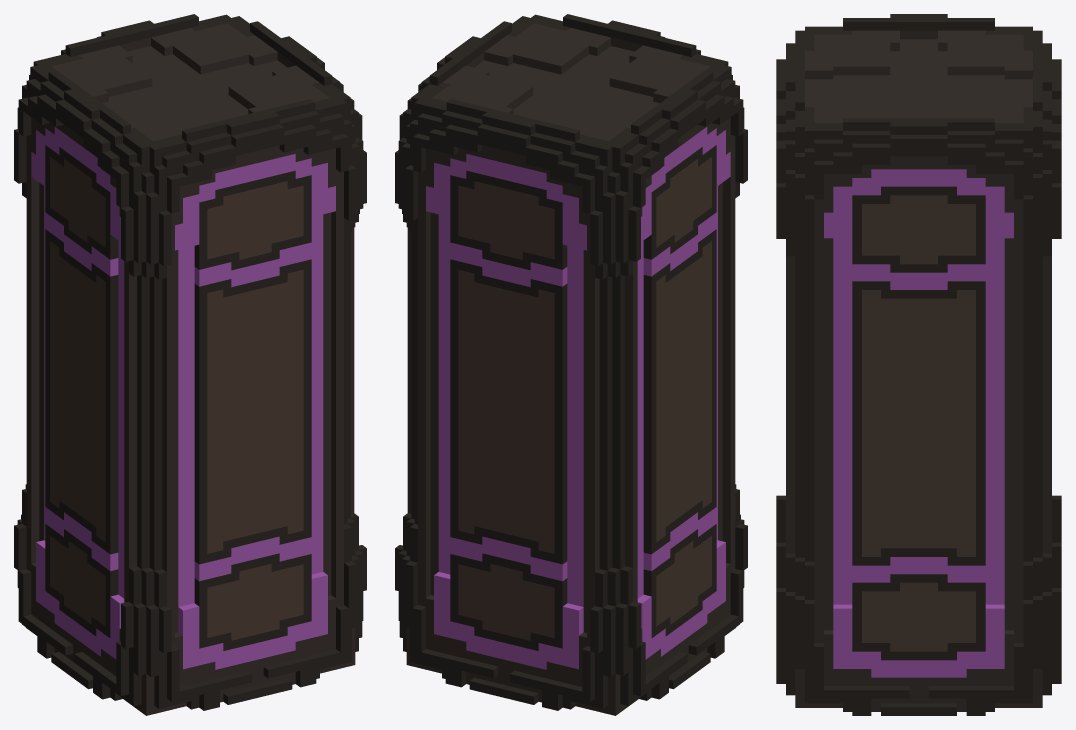
Rendered from infinity_pillar.obj.
3 views of the same model, side by side, from view 1: azimuth 30°, elevation 25°; view 2: azimuth 150°, elevation 25°; view 3: azimuth 270°, elevation 25° (orthographic). The views are drawn at different scales.
Bounding box in the file's own units: 3 × 6.8 × 3.
